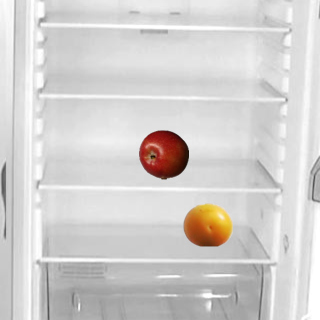Apple Braeburn: (138, 129, 188, 179)
Cherry Wax Yellow: (182, 199, 232, 249)
